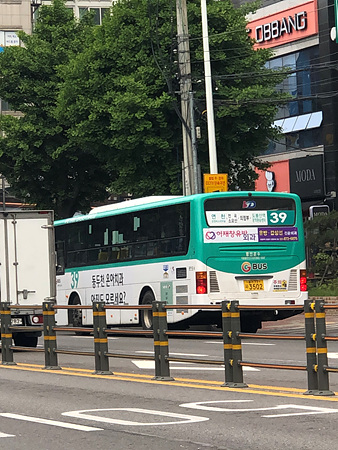bnum: (268, 209, 289, 224)
